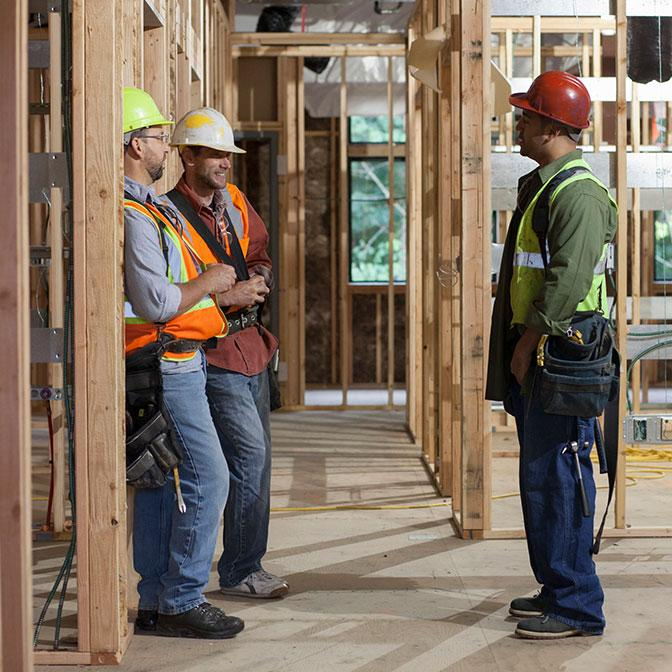helmet: (509, 72, 594, 130), (169, 106, 249, 157), (122, 87, 175, 137)
